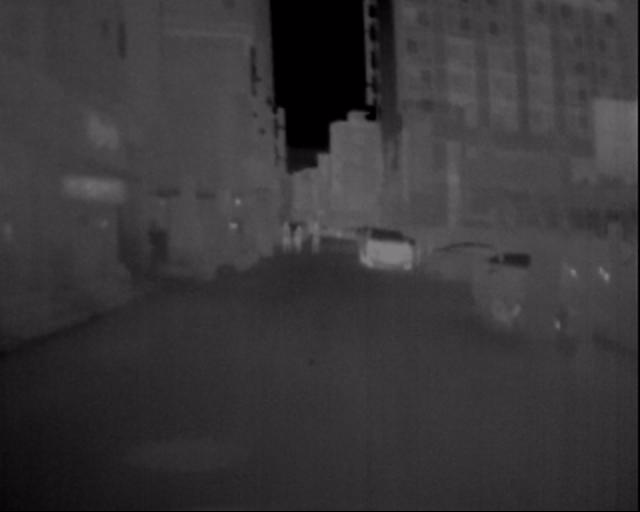person: (302, 213, 327, 252), (278, 212, 298, 256), (296, 214, 316, 254)
